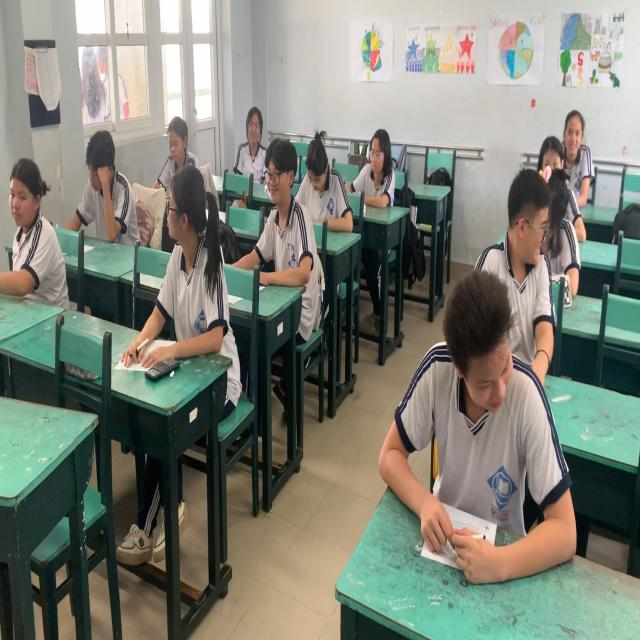cheating: (480, 170, 562, 370), (155, 167, 233, 360)
not_cheating: (391, 280, 556, 568), (254, 136, 316, 292), (0, 142, 58, 301), (76, 128, 132, 243), (297, 132, 356, 236), (560, 101, 596, 215), (352, 116, 394, 204), (155, 111, 198, 171), (231, 105, 272, 156)
